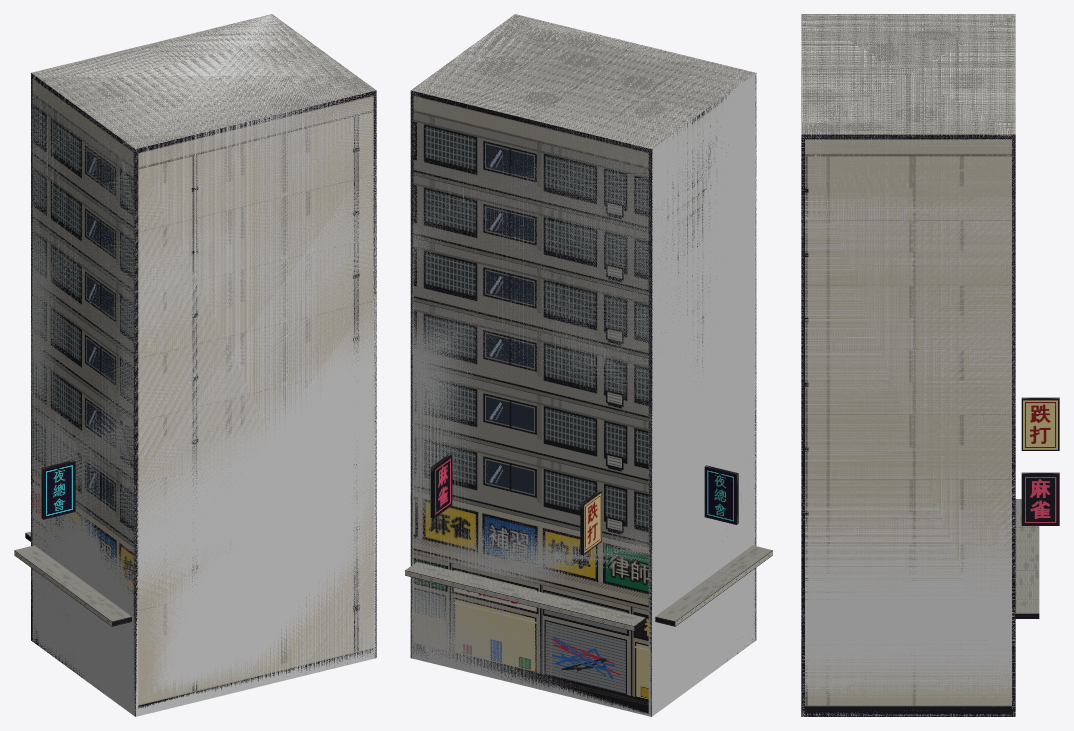
The picture shows the model from 3 angles, left to right: view 1: azimuth 30°, elevation 25°; view 2: azimuth 150°, elevation 25°; view 3: azimuth 270°, elevation 25°; orthographic projection. The views are drawn at different scales.
Visible parts, largest first — view 1: COL_19D-E21_0, 19D-E21; view 2: 19D-E21, COL_19D-E21_0; view 3: 19D-E21, COL_19D-E21_0.
Boxes of the visible parts, bbox=[...] form: COL_19D-E21_0: bbox=[31, 14, 376, 716]; 19D-E21: bbox=[14, 14, 376, 716]; 19D-E21: bbox=[405, 14, 772, 716]; COL_19D-E21_0: bbox=[410, 14, 756, 716]; 19D-E21: bbox=[801, 14, 1059, 716]; COL_19D-E21_0: bbox=[801, 14, 1015, 716].
Bounding box in the file's own units: 13.85 × 27 × 10.85.
1 material, 1 textured.
